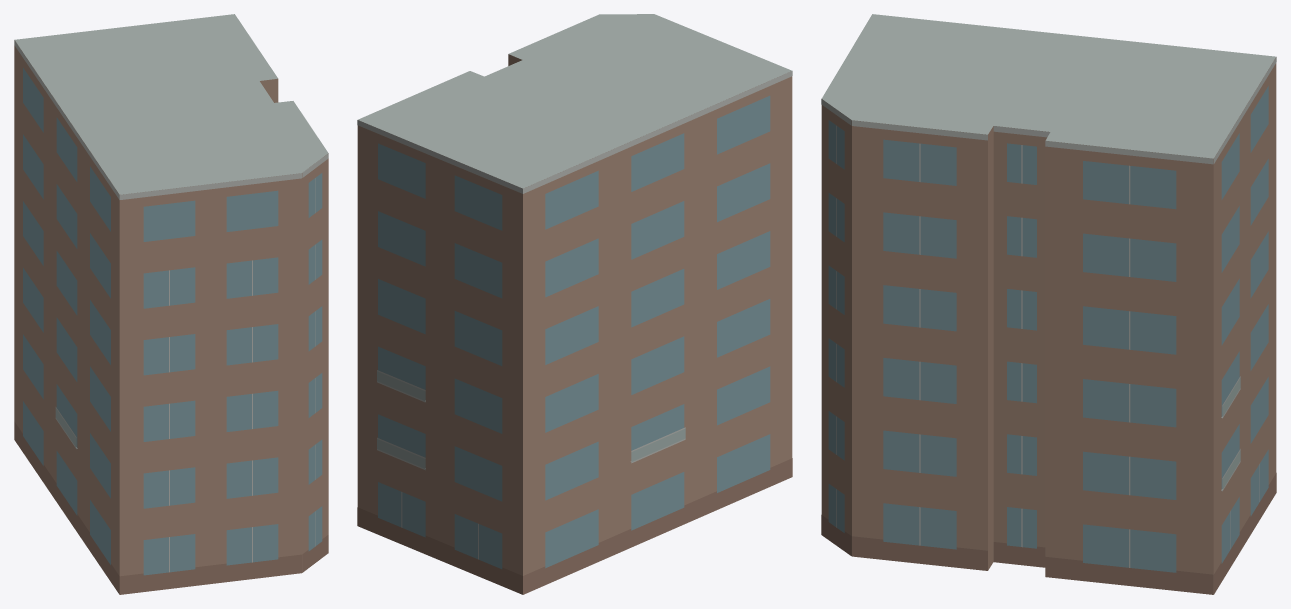
The model's file is survey-upis-32990786.glb.
The picture shows the model from 3 angles, left to right: view 1: azimuth 30°, elevation 25°; view 2: azimuth 150°, elevation 25°; view 3: azimuth 270°, elevation 25°; orthographic projection. The views are drawn at different scales.
Parts seen in each view (by area): view 1: survey-upis-32990786.tmp; view 2: survey-upis-32990786.tmp; view 3: survey-upis-32990786.tmp.
Boxes of the visible parts, x1,y1,x2,y2 form: survey-upis-32990786.tmp: (14, 14, 328, 594); survey-upis-32990786.tmp: (357, 14, 792, 594); survey-upis-32990786.tmp: (821, 14, 1276, 594).
Size of the model in its own units: 13.02 by 18.3 by 17.3.
